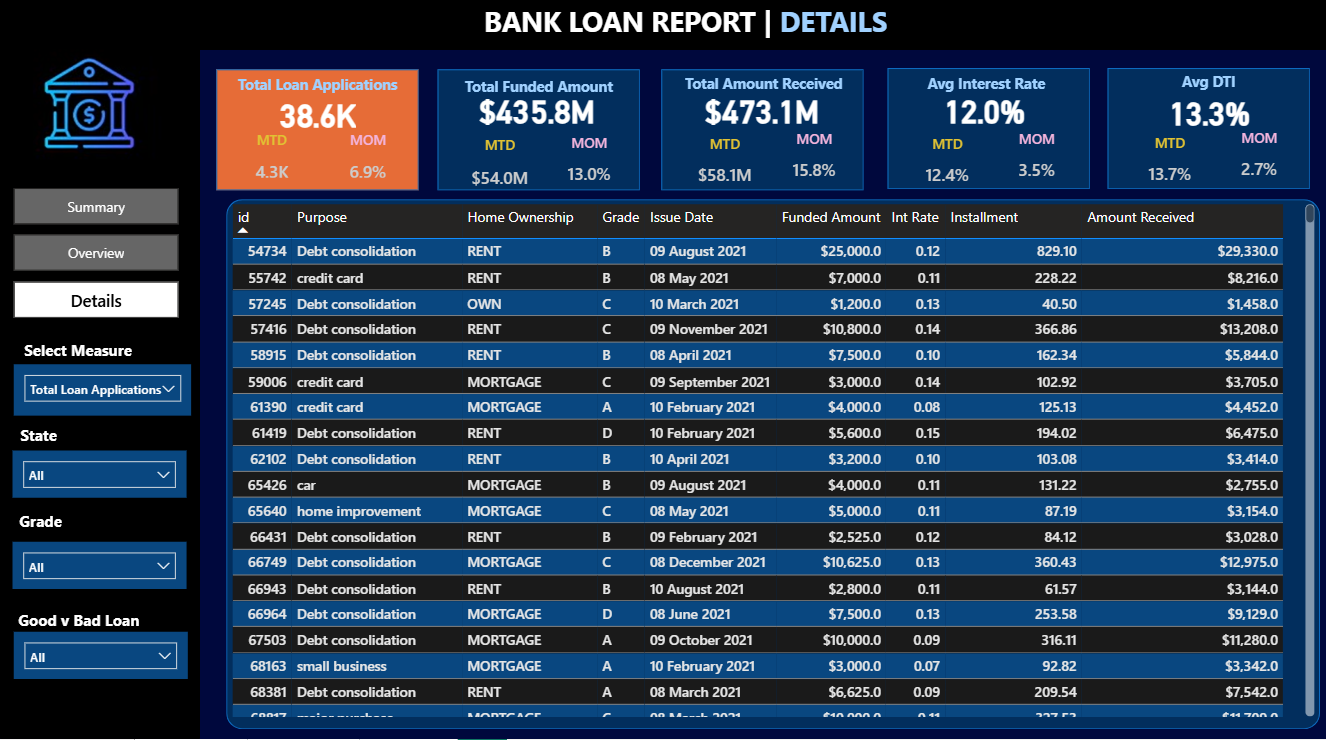

What the dashboard file says about the page in this screenshot:
{"tool":"powerbi","page":{"name":"Details","canvas":[1280,720],"ordinal":2},"visuals":[{"type":"shape","box":[0,0,1280.3,55],"z":0},{"type":"shape","box":[0,47.1,191.8,673.2],"z":1000},{"type":"textbox","box":[462.1,3.6,447.6,47.1],"z":2000},{"type":"shape","box":[208.7,73.6,195.4,117],"z":3000},{"type":"group","id":"g1","title":"Group 1","box":[208.7,73.6,195.4,117],"z":4000},{"type":"cardVisual","fields":{"Data":["Bank_loan_data.Total Funded Amount"]},"box":[433.3,74.8,170.1,77.2],"z":4000,"group":"g3"},{"type":"cardVisual","fields":{"Data":["Bank_loan_data.Total Amount Received"]},"box":[649.4,75.1,170.1,77.2],"z":4000,"group":"g2"},{"type":"cardVisual","fields":{"Data":["Bank_loan_data.Avg Interest Rate"]},"box":[864.5,75.1,170.1,77.2],"z":4000,"group":"g5"},{"type":"cardVisual","fields":{"Data":["Bank_loan_data.Avg DTI"]},"box":[1082,77.2,170.1,77.2],"z":4000,"group":"g4"},{"type":"cardVisual","fields":{"Data":["Bank_loan_data.Total Loan Applications"]},"box":[224.4,83.3,165.3,70],"z":4000,"group":"g1"},{"type":"textbox","box":[1068.9,71.2,195.4,36.2],"z":5000,"group":"g4"},{"type":"textbox","box":[638.8,72.4,195.4,36.2],"z":5000,"group":"g2"},{"type":"textbox","box":[853.9,72.4,195.4,36.2],"z":5000,"group":"g5"},{"type":"textbox","box":[208.7,73.6,195.4,36.2],"z":5000,"group":"g1"},{"type":"textbox","box":[422.3,75.5,195.4,36.2],"z":5000,"group":"g3"},{"type":"shape","box":[218.4,199.1,1055.6,511.5],"z":5000},{"type":"textbox","box":[6,329.4,138.7,37.4],"z":5000,"group":"g9"},{"type":"textbox","box":[9.7,411.4,55.5,30.2],"z":5000,"group":"g6"},{"type":"textbox","box":[7.2,494.6,63.9,35],"z":5000,"group":"g7"},{"type":"textbox","box":[11,590,130.3,31.4],"z":5000,"group":"g8"},{"type":"shape","box":[638.2,73.6,195.4,117],"z":6000},{"type":"cardVisual","title":"MTD","fields":{"Data":["Bank_loan_data.MTD Loan Application"]},"box":[218.4,132.7,88.1,57.9],"z":6000,"group":"g1"},{"type":"cardVisual","title":"MTD","fields":{"Data":["Bank_loan_data.MTD Avg DTI"]},"box":[1071.1,134.7,115.8,57.9],"z":6000,"group":"g4"},{"type":"cardVisual","title":"MTD","fields":{"Data":["Bank_loan_data.MTD Total Amount Received"]},"box":[641,135.9,115.8,57.9],"z":6000,"group":"g2"},{"type":"cardVisual","title":"MTD","fields":{"Data":["Bank_loan_data.MTD Avg Int Rate"]},"box":[856.1,135.9,115.8,57.9],"z":6000,"group":"g5"},{"type":"cardVisual","title":"MTD","fields":{"Data":["Bank_loan_data.MTD Funded Amount"]},"box":[424.9,137,115.8,61.5],"z":6000,"group":"g3"},{"type":"shape","box":[422.3,73.6,195.4,117],"z":7000},{"type":"cardVisual","title":"MOM","fields":{"Data":["Bank_loan_data.MOM Avg DTI"]},"box":[1166.6,130.3,97.7,57.9],"z":7000,"group":"g4"},{"type":"cardVisual","title":"MOM","fields":{"Data":["Bank_loan_data.MOM Total Amount Received"]},"box":[736.5,131.5,97.7,57.9],"z":7000,"group":"g2"},{"type":"cardVisual","title":"MOM","fields":{"Data":["Bank_loan_data.MOM Avg Int Rate"]},"box":[951.6,131.5,97.7,57.9],"z":7000,"group":"g5"},{"type":"cardVisual","title":"MOM","fields":{"Data":["Bank_loan_data.MOM Loan Applications"]},"box":[306.4,132.7,97.7,57.9],"z":7000,"group":"g1"},{"type":"cardVisual","title":"MOM","fields":{"Data":["Bank_loan_data.MOM Total Funded Amount"]},"box":[520,134.6,97.7,57.9],"z":7000,"group":"g3"},{"type":"group","id":"g2","title":"Group 1","box":[638.8,72.4,195.4,121.9],"z":8000},{"type":"group","id":"g3","title":"Group 1","box":[422.3,74.8,195.4,124.3],"z":9000},{"type":"shape","box":[856.6,72.4,195.4,117],"z":10000},{"type":"shape","box":[1068.9,72.4,195.4,117],"z":11000},{"type":"group","id":"g4","title":"Group 1","box":[1068.9,71.2,195.4,121.9],"z":12000},{"type":"group","id":"g5","title":"Group 1","box":[853.9,72.4,195.4,121.9],"z":13000},{"type":"shape","box":[1.2,47.1,191.8,673.2],"z":14000},{"type":"slicer","fields":{"Values":["Bank_loan_data.address_state"]},"box":[12.1,441.6,167.7,45.8],"z":15000},{"type":"group","id":"g6","title":"Group 1","box":[9.7,411.4,55.5,30.2],"z":16000},{"type":"slicer","fields":{"Values":["Bank_loan_data.grade"]},"box":[12.1,529.6,167.7,45.8],"z":17000},{"type":"group","id":"g7","title":"Group 1","box":[7.2,494.6,63.9,35],"z":18000},{"type":"slicer","fields":{"Values":["Bank_loan_data.Good v Bad Loan"]},"box":[13.3,616.5,167.7,45.8],"z":19000},{"type":"group","id":"g8","title":"Group 1","box":[11,590,130.3,31.4],"z":20000},{"type":"slicer","fields":{"Values":["Select Measure.Select Measure"]},"box":[13.3,358.3,171.3,49.5],"z":21000},{"type":"group","id":"g9","title":"Group 1","box":[6,329.4,138.7,37.4],"z":22000},{"type":"tableEx","fields":{"Values":["Bank_loan_data.id","Bank_loan_data.purpose","Bank_loan_data.home_ownership","Bank_loan_data.grade","Bank_loan_data.issue_date","Bank_loan_data.Total Funded Amount","Sum(Bank_loan_data.int_rate)","Sum(Bank_loan_data.installment)","Bank_loan_data.Total Amount Received"]},"box":[218.4,199.1,1055.6,504.3],"z":23000},{"type":"pageNavigator","box":[13.3,188.2,159.3,126.7],"z":24000},{"type":"image","box":[15.7,54.3,156.8,106.2],"z":25000}]}

Visuals, with their boxes in screenshot pixels (x1, y1, x2, y2), scaled from the page's 1280x720 canvas onto the 1326x740 screenshot:
shape: Rect(0, 0, 1325, 57)
shape: Rect(0, 48, 199, 739)
textbox: Rect(479, 4, 942, 52)
shape: Rect(216, 76, 419, 196)
"Group 1" group: Rect(216, 76, 419, 196)
cardVisual - Bank_loan_data.Total Funded Amount: Rect(449, 77, 625, 156)
cardVisual - Bank_loan_data.Total Amount Received: Rect(673, 77, 849, 157)
cardVisual - Bank_loan_data.Avg Interest Rate: Rect(896, 77, 1072, 157)
cardVisual - Bank_loan_data.Avg DTI: Rect(1121, 79, 1297, 159)
cardVisual - Bank_loan_data.Total Loan Applications: Rect(232, 86, 404, 158)
textbox: Rect(1107, 73, 1310, 110)
textbox: Rect(662, 74, 864, 112)
textbox: Rect(885, 74, 1087, 112)
textbox: Rect(216, 76, 419, 113)
textbox: Rect(437, 78, 640, 115)
shape: Rect(226, 205, 1320, 730)
textbox: Rect(6, 339, 150, 377)
textbox: Rect(10, 423, 68, 454)
textbox: Rect(7, 508, 74, 544)
textbox: Rect(11, 606, 146, 639)
shape: Rect(661, 76, 864, 196)
"MTD" cardVisual: Rect(226, 136, 318, 196)
"MTD" cardVisual: Rect(1110, 138, 1230, 198)
"MTD" cardVisual: Rect(664, 140, 784, 199)
"MTD" cardVisual: Rect(887, 140, 1007, 199)
"MTD" cardVisual: Rect(440, 141, 560, 204)
shape: Rect(437, 76, 640, 196)
"MOM" cardVisual: Rect(1209, 134, 1310, 193)
"MOM" cardVisual: Rect(763, 135, 864, 195)
"MOM" cardVisual: Rect(986, 135, 1087, 195)
"MOM" cardVisual: Rect(317, 136, 419, 196)
"MOM" cardVisual: Rect(539, 138, 640, 198)
"Group 1" group: Rect(662, 74, 864, 200)
"Group 1" group: Rect(437, 77, 640, 205)
shape: Rect(887, 74, 1090, 195)
shape: Rect(1107, 74, 1310, 195)
"Group 1" group: Rect(1107, 73, 1310, 198)
"Group 1" group: Rect(885, 74, 1087, 200)
shape: Rect(1, 48, 200, 739)
slicer - Bank_loan_data.address_state: Rect(13, 454, 186, 501)
"Group 1" group: Rect(10, 423, 68, 454)
slicer - Bank_loan_data.grade: Rect(13, 544, 186, 591)
"Group 1" group: Rect(7, 508, 74, 544)
slicer - Bank_loan_data.Good v Bad Loan: Rect(14, 634, 188, 681)
"Group 1" group: Rect(11, 606, 146, 639)
slicer - Select Measure.Select Measure: Rect(14, 368, 191, 419)
"Group 1" group: Rect(6, 339, 150, 377)
tableEx - Bank_loan_data.id x Bank_loan_data.purpose: Rect(226, 205, 1320, 723)
pageNavigator: Rect(14, 193, 179, 324)
image: Rect(16, 56, 179, 165)
